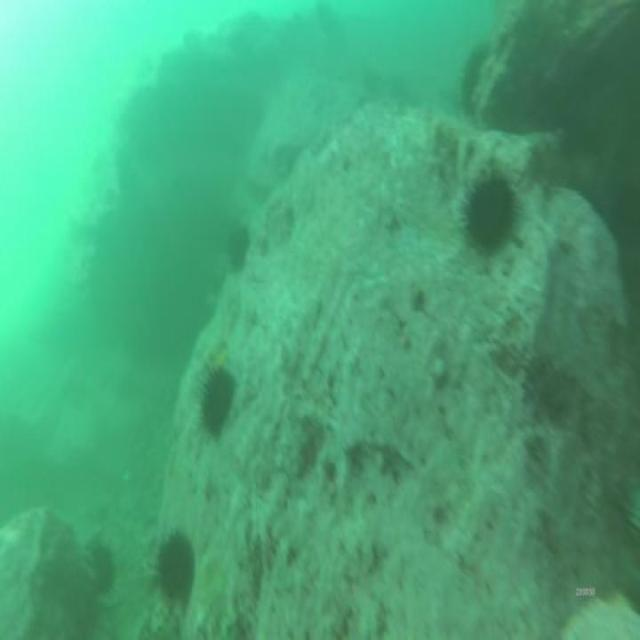echinus: (469, 177, 514, 253), (157, 537, 193, 604), (201, 373, 235, 427), (90, 545, 116, 596), (226, 228, 245, 267)
